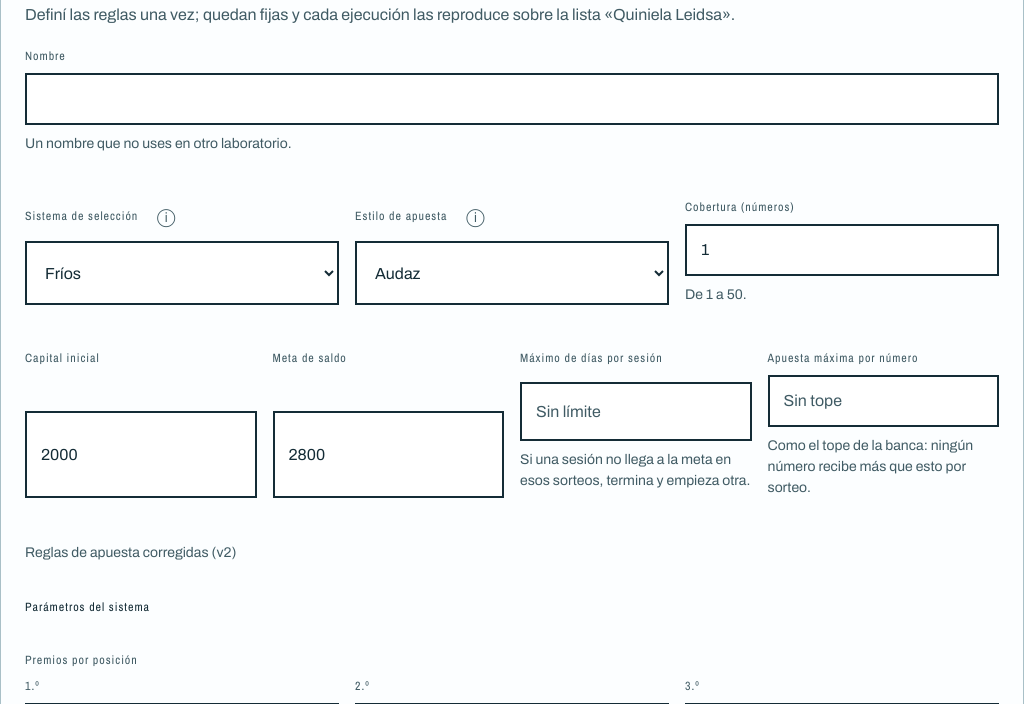
Test: laboratory form follows the active list › offers the ensemble components as checkboxes and explains the opposite votes
Check: the field labelled "Nombre" is shown, box top-left (25, 73), bottom-right (999, 125)
Select "Ensamble" in the dropdown labelled "Sistema de selección" at (182, 273), box top-left (25, 241), bottom-right (339, 305)
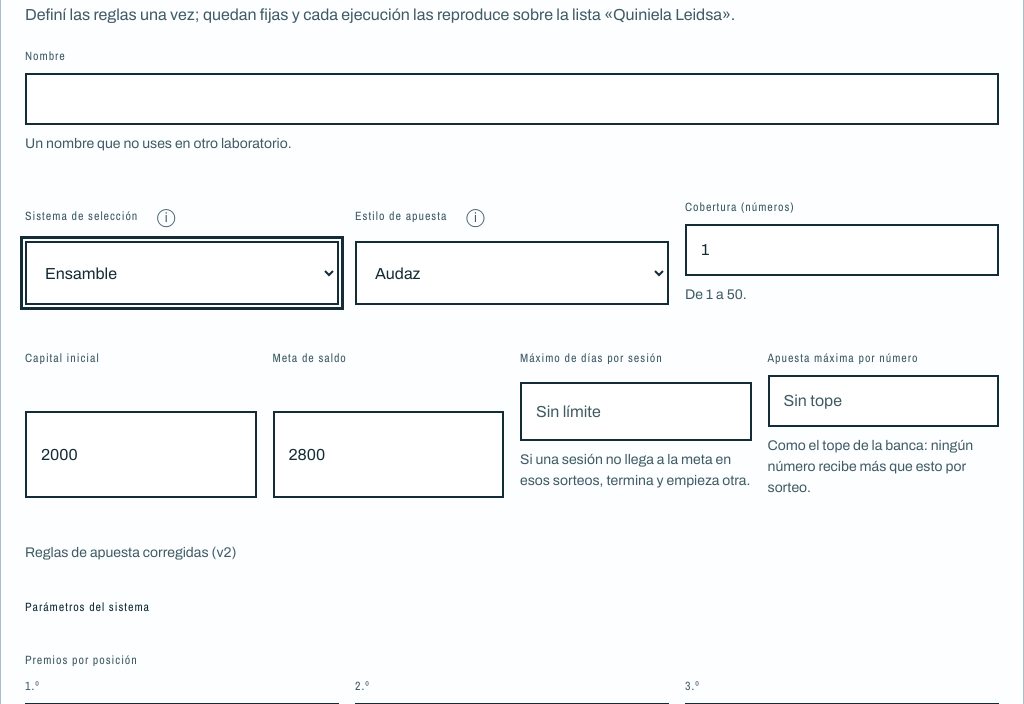
Click the heading "Parámetros del sistema".
click(88, 607)  # box top-left (25, 599), bottom-right (150, 615)
(page scrolled)
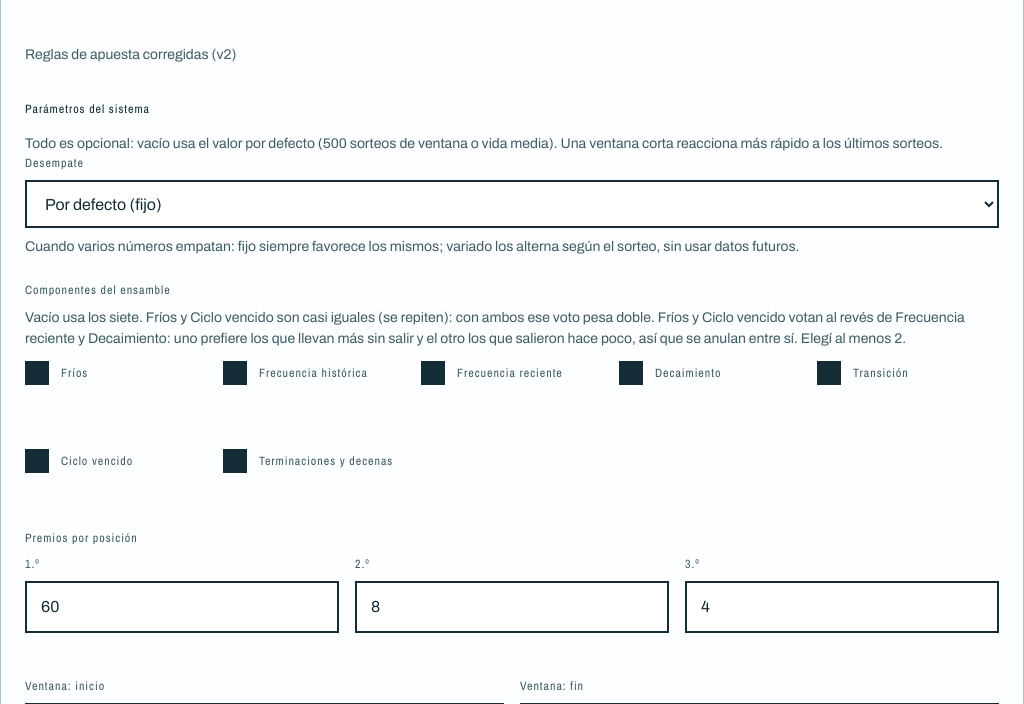
Check: the number of checkboxes is 7
Check: the text "votan al revés" is shown, box top-left (25, 310), bottom-right (965, 346)
